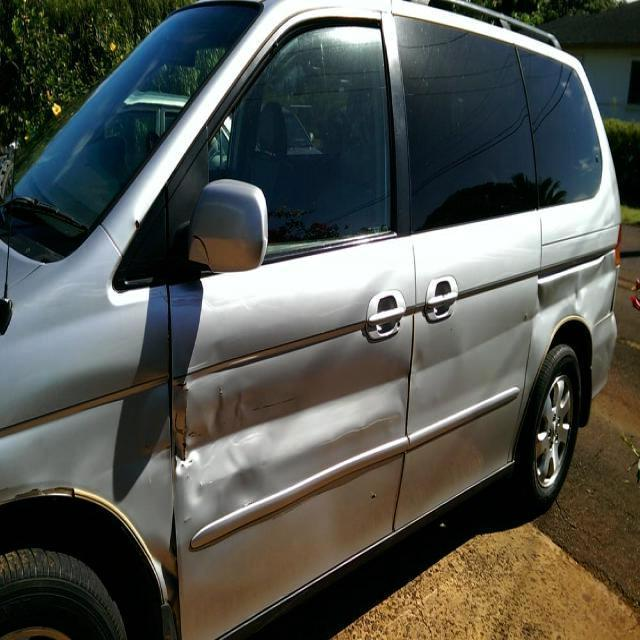minor: (538, 248, 618, 360), (108, 379, 169, 505), (182, 460, 264, 536)
moderate: (174, 358, 407, 476)
